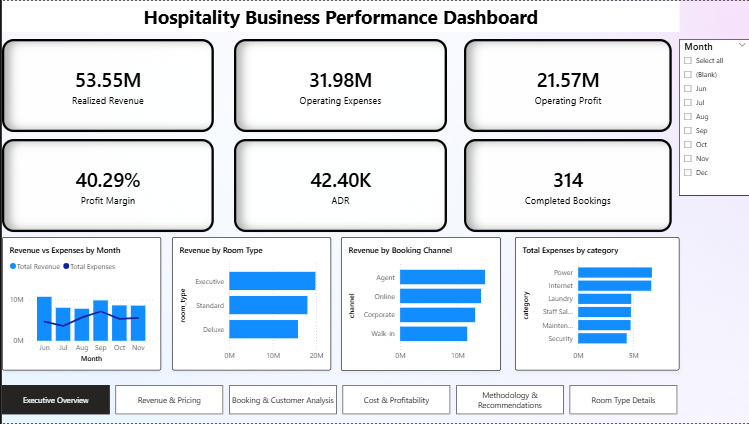

Layout of this report page (visuals, bound fields, positions):
{"tool":"powerbi","page":{"name":"Executive Overview","canvas":[1280,720],"ordinal":0},"visuals":[{"type":"card","fields":{"Values":["Date.Total Revenue"]},"box":[0,64.9,362.3,158.9],"z":0},{"type":"card","fields":{"Values":["Date.Total Expenses"]},"box":[396.5,64.9,364,158.9],"z":1000},{"type":"card","fields":{"Values":["Date.Operating Profit"]},"box":[789.5,64.9,355.5,158.9],"z":2000},{"type":"card","fields":{"Values":["Date.Profit Margin"]},"box":[0,235.8,362.3,158.9],"z":3000},{"type":"card","fields":{"Values":["Date.ADR"]},"box":[396.5,235.8,364,158.9],"z":4000},{"type":"card","fields":{"Values":["Date.Completed Bookings"]},"box":[789.5,235.8,355.5,158.9],"z":5000},{"type":"lineClusteredColumnComboChart","title":"Revenue vs Expenses by Month","fields":{"Category":["Date.Month"],"Y":["Date.Total Revenue"],"Y2":["Date.Total Expenses"]},"box":[0,404.1,271.6,228.4],"z":6000},{"type":"clusteredBarChart","title":"Revenue by Room Type","fields":{"Category":["bookings.room_type"],"Y":["Date.Total Revenue"]},"box":[290.5,404.1,271.6,228.4],"z":7000},{"type":"clusteredBarChart","title":"Revenue by Booking Channel","fields":{"Category":["bookings.channel"],"Y":["Date.Total Revenue"]},"box":[579.3,403.3,273.4,229],"z":8000},{"type":"clusteredBarChart","fields":{"Category":["expenses.category"],"Y":["Date.Total Expenses"]},"box":[877,404.1,281.1,228.4],"z":9000},{"type":"textbox","box":[0,0,1158.1,52.7],"z":10000},{"type":"pageNavigator","box":[0,649.1,1278.9,70.2],"z":11000},{"type":"slicer","fields":{"Values":["Date.Month"]},"box":[1157,64.9,123,268.3],"z":12000}]}

Visuals, with their boxes on the page's 1280x720 design canvas (x1, y1, x2, y2). These are canvas units, not pixel positions in the 749x424 screenshot, which may show the page scaled, cropped or inside an application window:
card - Date.Total Revenue: l=0, t=65, r=362, b=224
card - Date.Total Expenses: l=396, t=65, r=760, b=224
card - Date.Operating Profit: l=790, t=65, r=1145, b=224
card - Date.Profit Margin: l=0, t=236, r=362, b=395
card - Date.ADR: l=396, t=236, r=760, b=395
card - Date.Completed Bookings: l=790, t=236, r=1145, b=395
"Revenue vs Expenses by Month" lineClusteredColumnComboChart: l=0, t=404, r=272, b=632
"Revenue by Room Type" clusteredBarChart: l=290, t=404, r=562, b=632
"Revenue by Booking Channel" clusteredBarChart: l=579, t=403, r=853, b=632
clusteredBarChart - expenses.category x Date.Total Expenses: l=877, t=404, r=1158, b=632
textbox: l=0, t=0, r=1158, b=53
pageNavigator: l=0, t=649, r=1279, b=719
slicer - Date.Month: l=1157, t=65, r=1280, b=333
